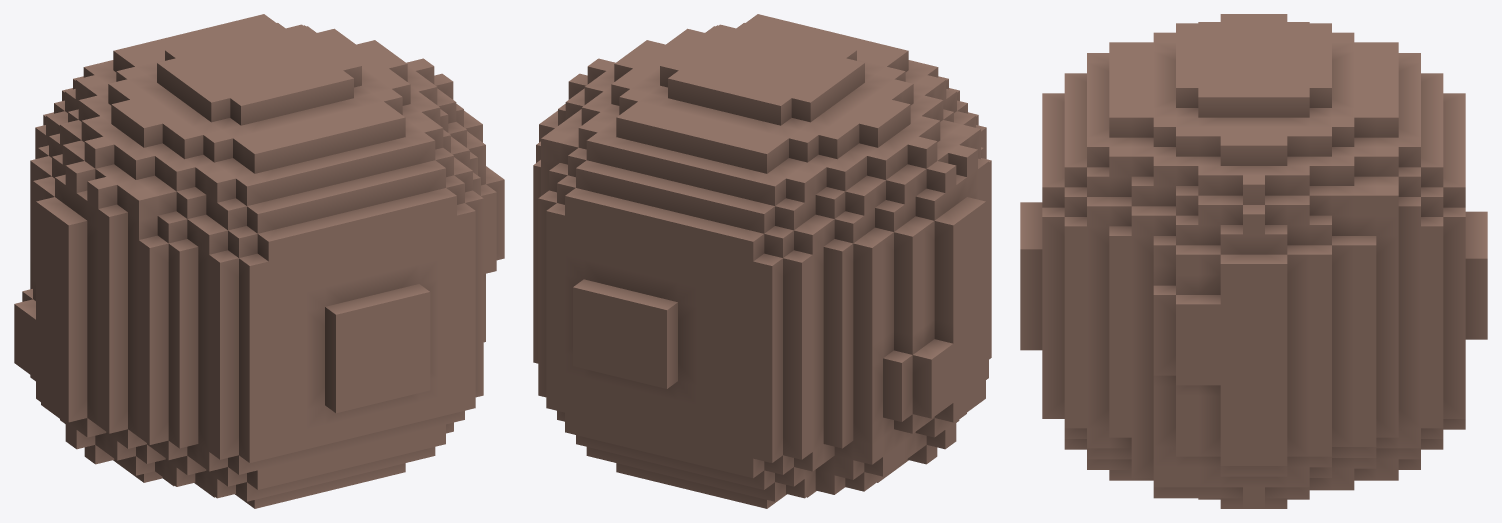
File: meteor.glb
The picture shows the model from 3 angles, left to right: view 1: azimuth 30°, elevation 25°; view 2: azimuth 150°, elevation 25°; view 3: azimuth 270°, elevation 25°; orthographic projection. The views are drawn at different scales.
Visible parts, largest first — view 1: voxels; view 2: voxels; view 3: voxels.
Part boxes in pixels (left/top/right/bottom): voxels: left=14, top=14, right=504, bottom=508; voxels: left=533, top=14, right=991, bottom=508; voxels: left=1020, top=14, right=1487, bottom=508.
Bounding box in the file's own units: 0.8983 × 0.7758 × 0.8575.
